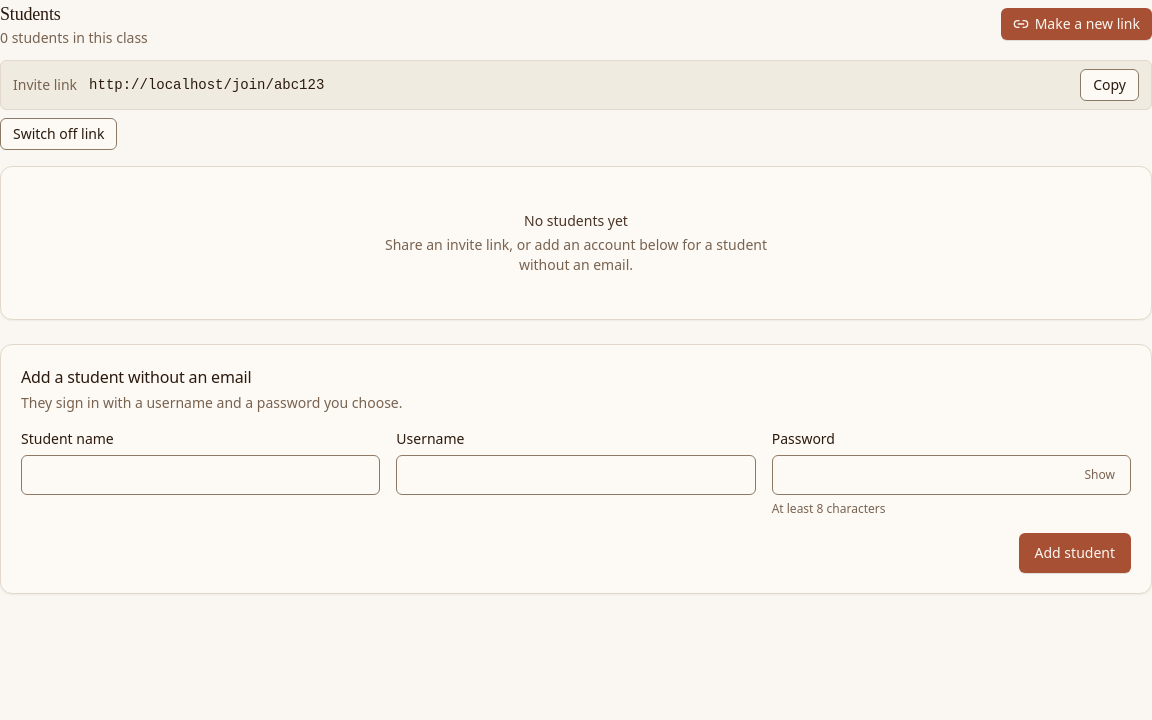
Test: a tutor switches the class link off after confirming, then sees no active link
Click the button "Switch off link".
click(59, 134)  # box left=0, top=118, right=118, bottom=150
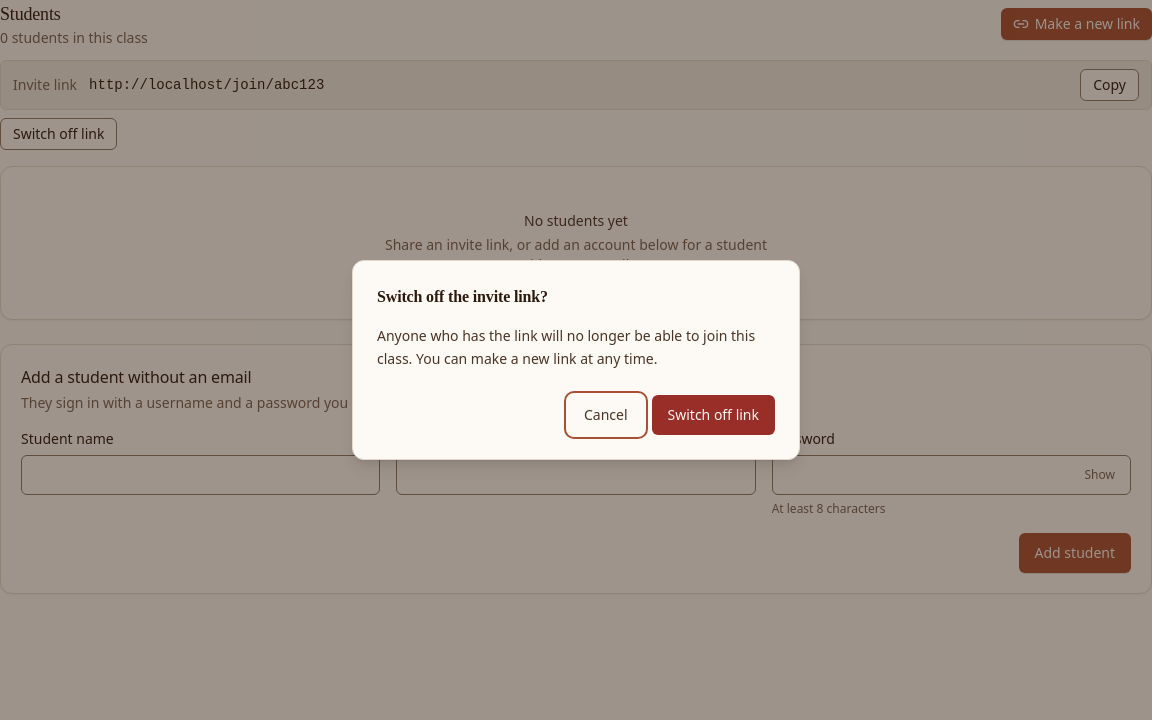
Click the button "Switch off link".
click(713, 415)  # box left=652, top=395, right=775, bottom=435
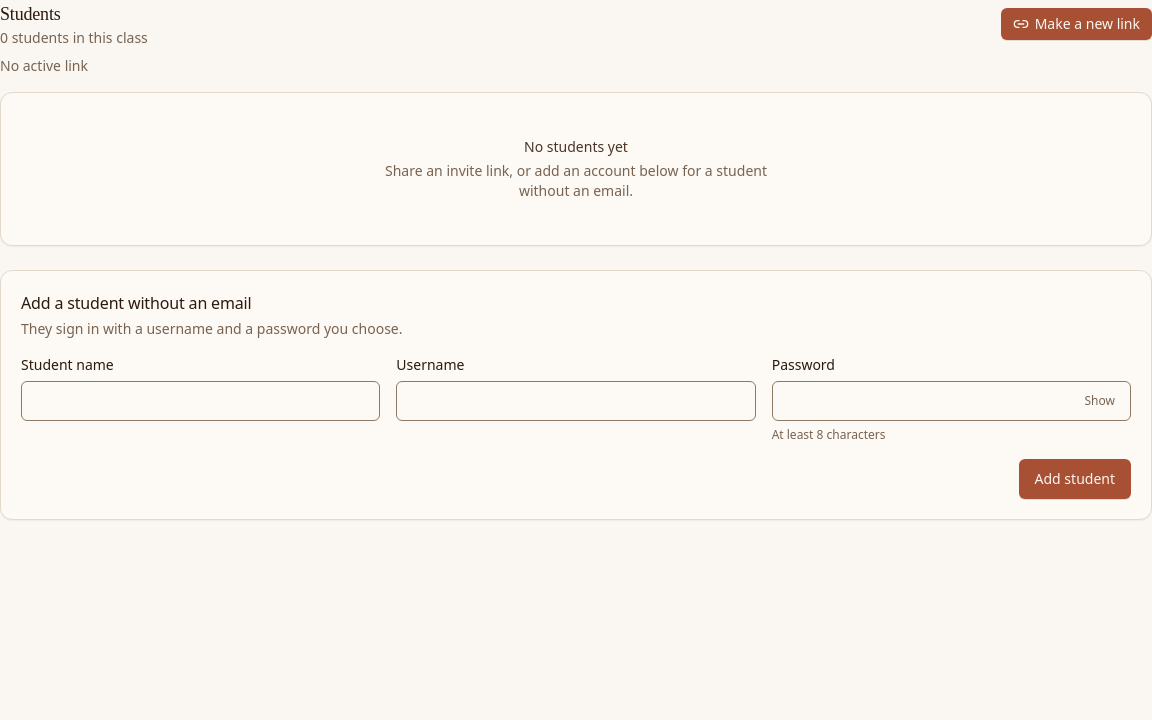
Check: the button "Make a new link" is shown, box left=1001, top=8, right=1151, bottom=40
Check: the text "No active link" is shown, box left=0, top=56, right=88, bottom=75
